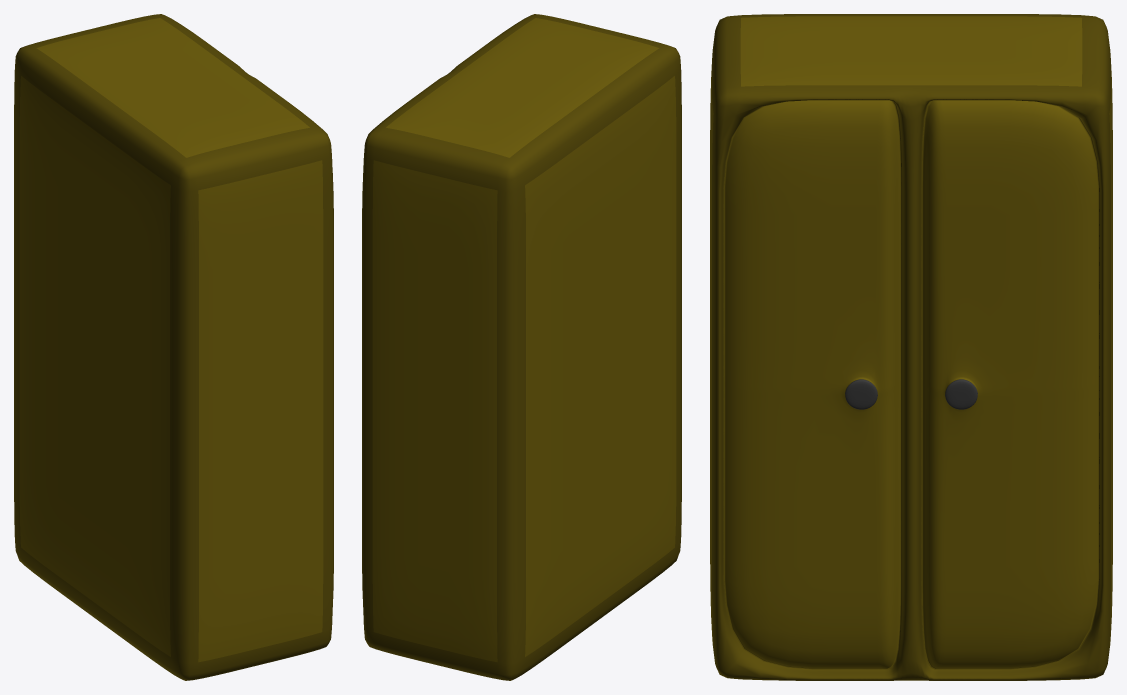
The model's file is Closet.fbx.
3 renders of one model, left to right at view 1: azimuth 30°, elevation 25°; view 2: azimuth 150°, elevation 25°; view 3: azimuth 270°, elevation 25°, orthographic. The views are drawn at different scales.
Visible parts, largest first — view 1: pCube1; view 2: pCube1; view 3: pCube1.
Boxes of the visible parts, x1,y1,x2,y2 form: pCube1: (14,14,333,680); pCube1: (362,14,681,680); pCube1: (710,14,1112,680).
Size of the model in its own units: 3.19 by 9.54 by 5.84.
